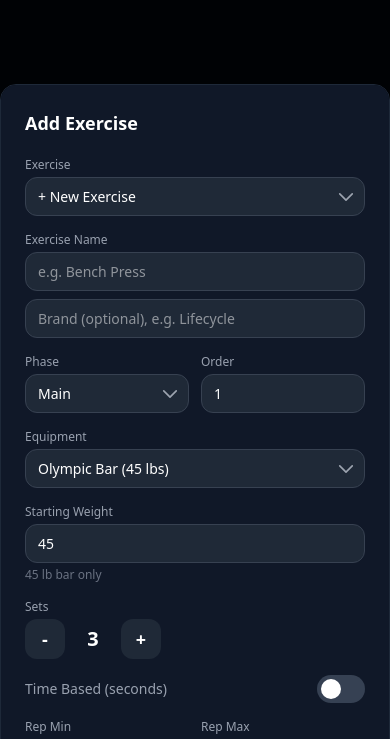
ExerciseEditor › creating a new exercise › snaps PowerBlock weight to the nearest 2.5lb increment and warns when clamped
Select "PowerBlock (5–50 lbs)" in the dropdown below "Equipment": (195, 469) [25,449,365,488]
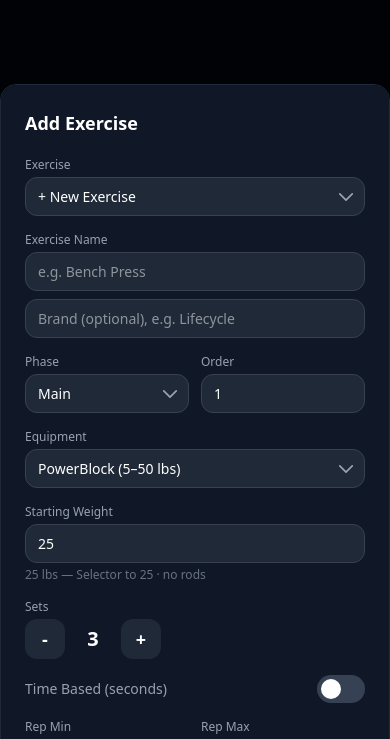
Replace the text in the number field below "Starting Weight" with "23": (195, 544) [25,524,365,563]
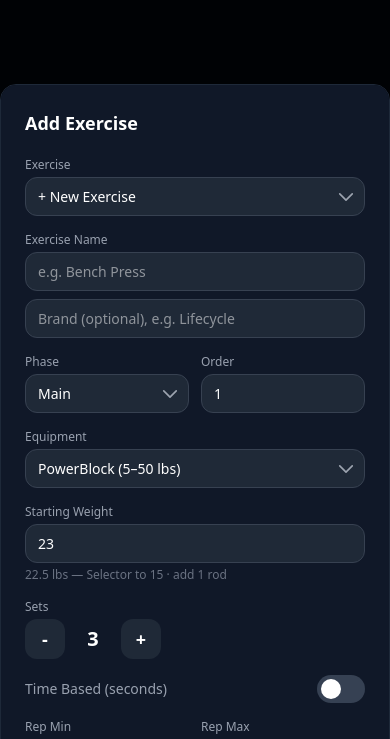
Leave the number field below "Starting Weight", box [25,524,365,563]
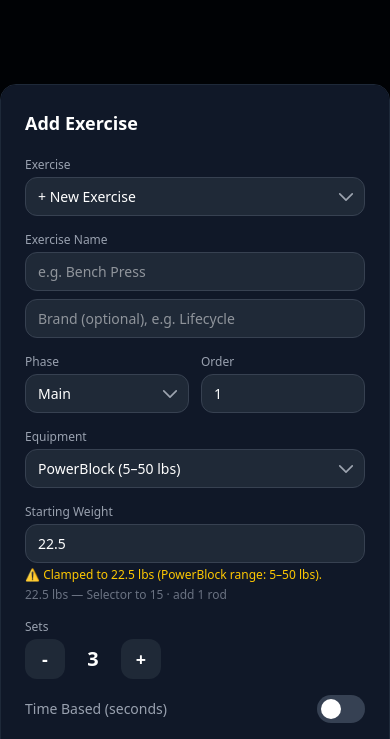
Now the number field below "Starting Weight" holds "22.5", box [25,524,365,563]
Now the text "⚠ Clamped to 22.5 lbs (PowerBlock range: 5–50 lbs)." is shown, box [25,567,365,583]
